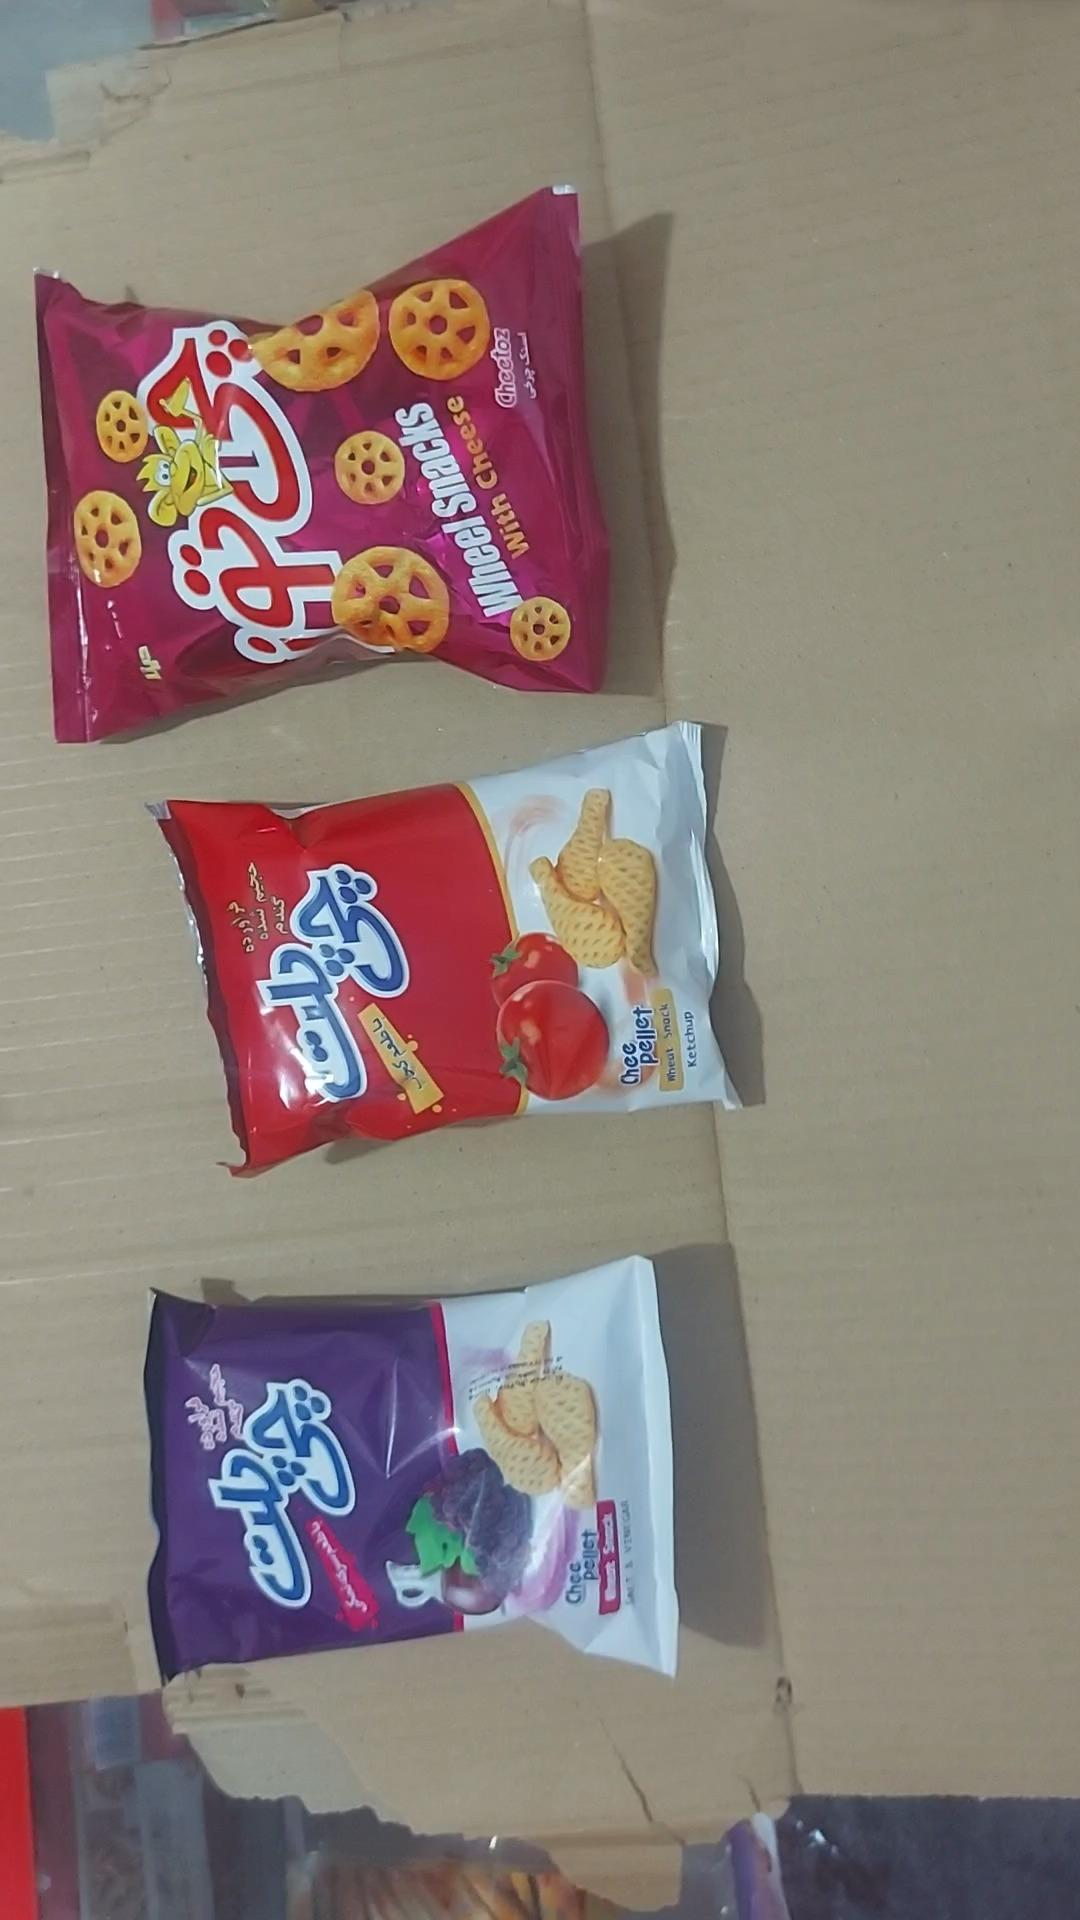Chee pellet ketchup: (149, 723, 740, 1179)
Chee pellet vinegar: (142, 1255, 680, 1684)
Cheetoz wheelsnack: (33, 186, 612, 746)
